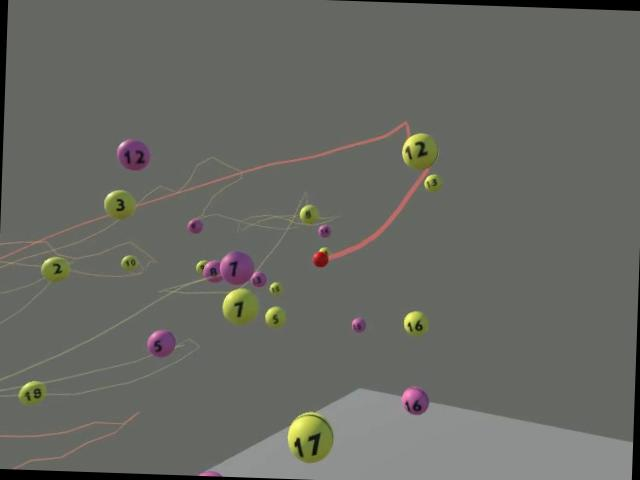ball_02_pink: (102, 188, 136, 220)
ball_02_yellow: (40, 256, 70, 282)
ball_05_pink: (146, 328, 176, 358)
ball_05_yellow: (264, 305, 286, 328)
ball_07_pink: (218, 250, 254, 284)
ball_07_yellow: (221, 287, 258, 324)
ball_08_pink: (202, 259, 224, 283)
ball_08_yellow: (298, 203, 318, 224)
ball_09_pink: (186, 217, 203, 234)
ball_10_yellow: (120, 254, 138, 271)
ball_12_pink: (116, 138, 150, 170)
ball_12_yellow: (400, 132, 438, 170)
ball_13_pink: (250, 270, 267, 288)
ball_13_yellow: (422, 172, 442, 192)
ball_14_pink: (318, 223, 330, 237)
ball_15_pink: (350, 316, 366, 332)
ball_15_yellow: (268, 282, 282, 296)
ball_16_pink: (401, 385, 429, 415)
ball_16_yellow: (17, 380, 47, 406), (402, 310, 428, 336)
ball_17_yellow: (286, 410, 334, 464)
ball_unknown: (195, 259, 208, 274), (197, 469, 222, 476), (318, 246, 329, 254)
user_cursor: (311, 250, 329, 268)
